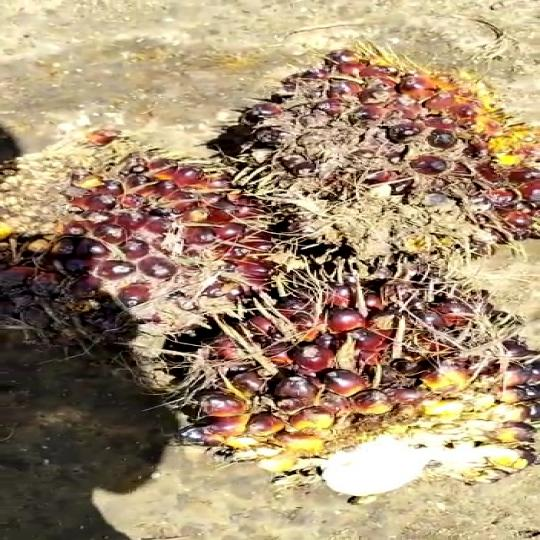kurang masak: (176, 255, 540, 500), (216, 36, 540, 269), (13, 147, 293, 366)
